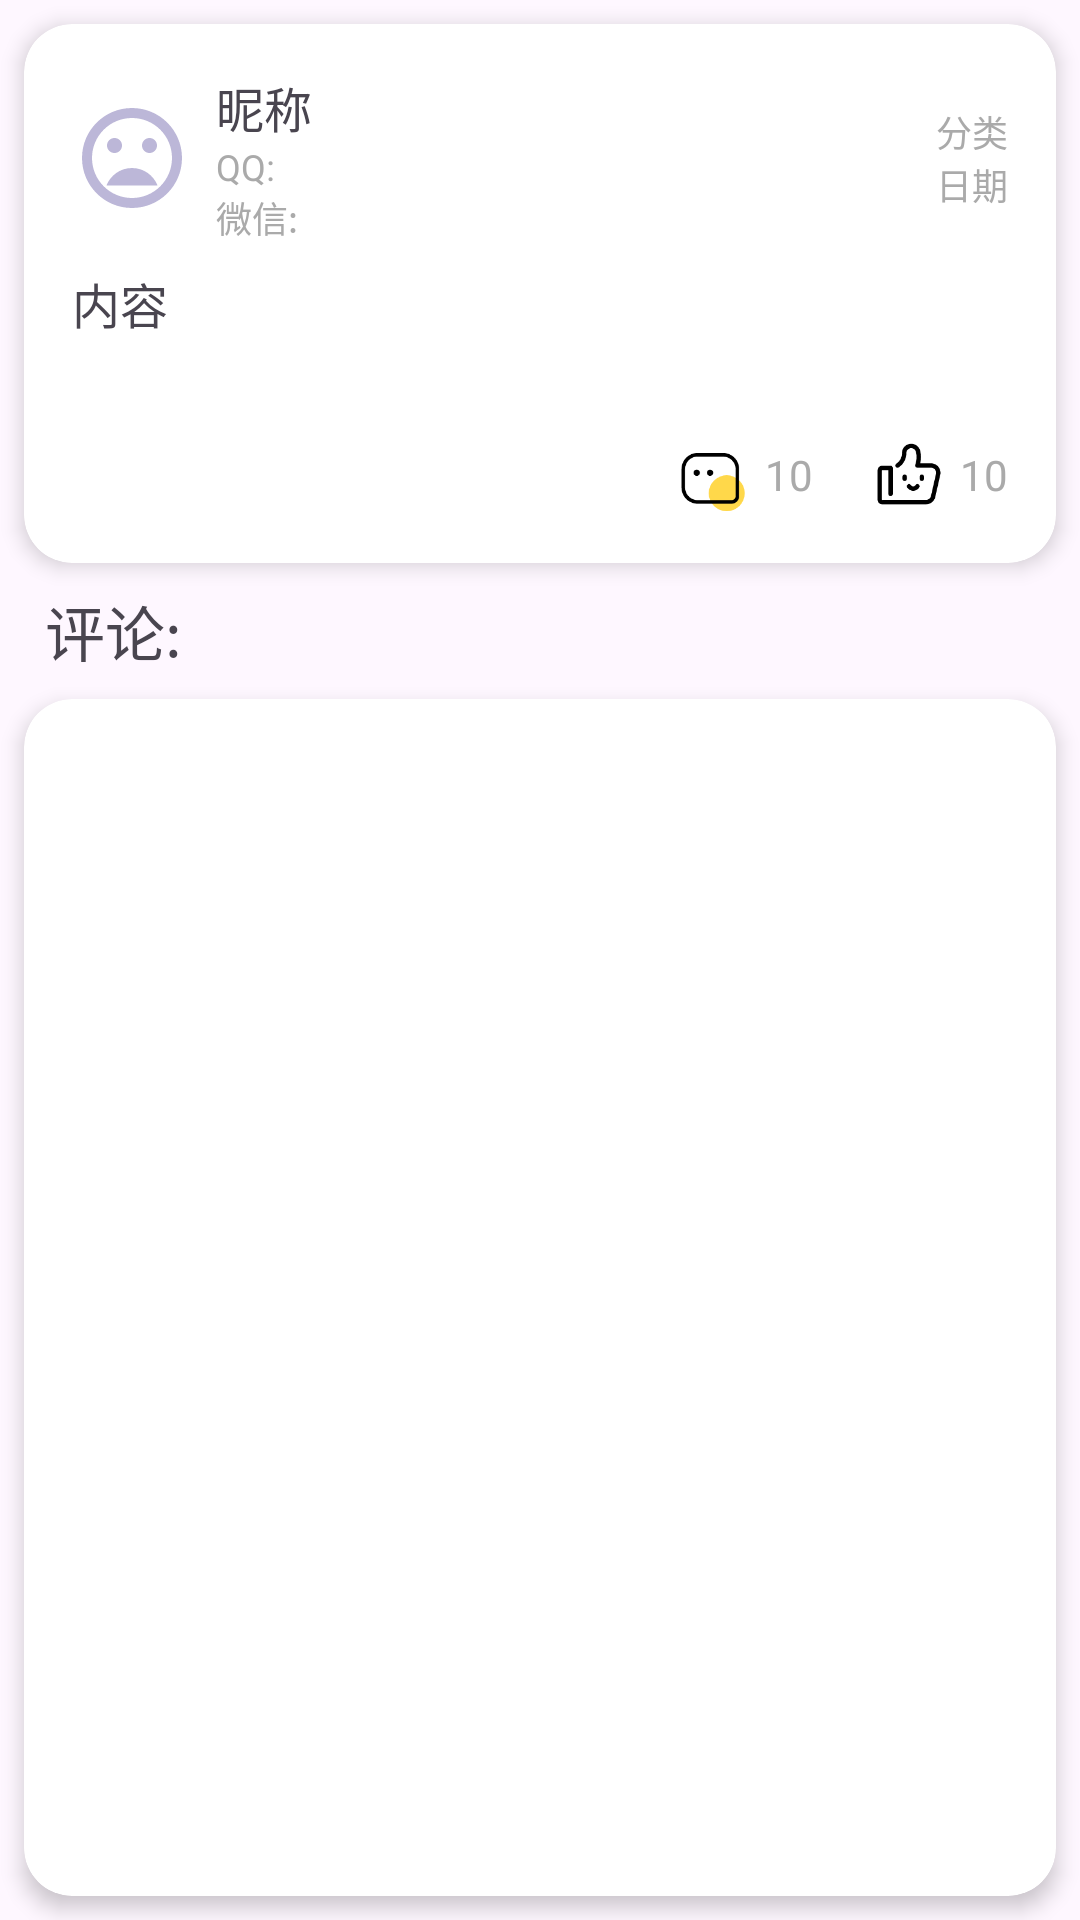

Screen size 1080x1920. Icon name, then its center in pixels as (x=x, y=y):
comment: (x=713, y=482)
like: (x=909, y=474)
mood bad: (x=132, y=158)
